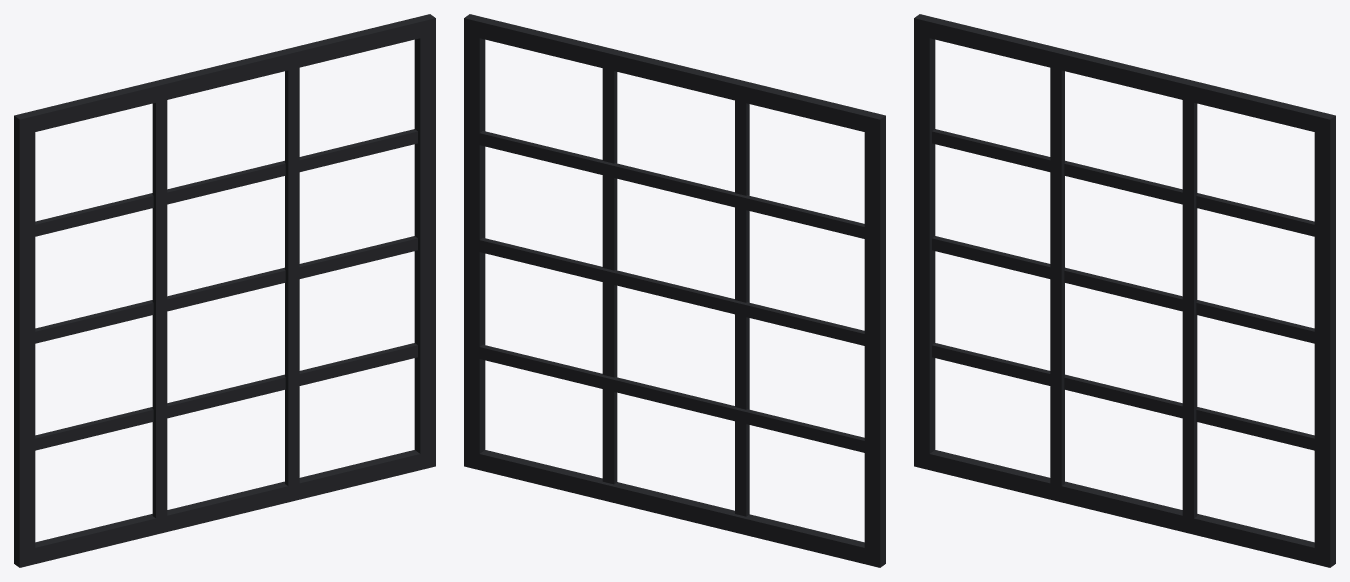
File: SM_Wall_PhWindowGrille_01.fbx
The picture shows the model from 3 angles, left to right: view 1: azimuth 30°, elevation 25°; view 2: azimuth 150°, elevation 25°; view 3: azimuth 330°, elevation 25°; orthographic projection.
Visible parts, largest first — view 1: SM_Wall_PhWindowGrille_01; view 2: SM_Wall_PhWindowGrille_01; view 3: SM_Wall_PhWindowGrille_01.
Part boxes in pixels (x1,y1,x2,y2): SM_Wall_PhWindowGrille_01: [14, 14, 435, 567]; SM_Wall_PhWindowGrille_01: [464, 14, 885, 567]; SM_Wall_PhWindowGrille_01: [914, 14, 1335, 567].
Bounding box in the file's own units: 1.02 × 1.05 × 0.024.
Materials: 1 (1 with a texture image).
